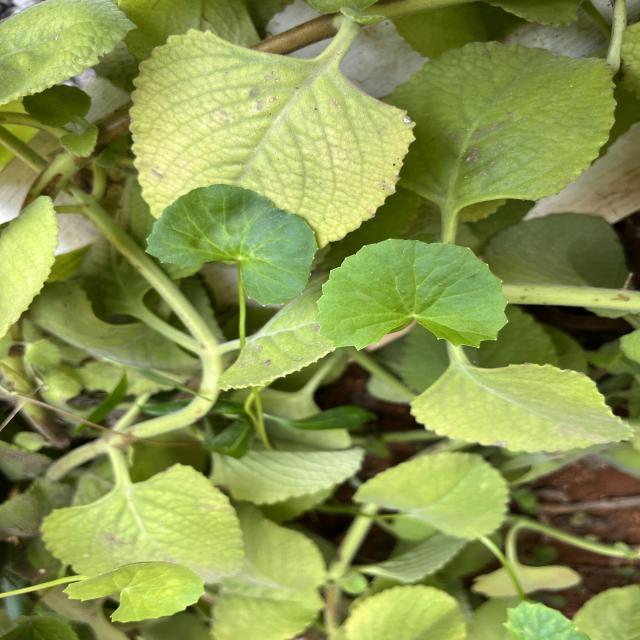Centella asiatica: (311, 235, 512, 352), (142, 182, 322, 310), (59, 558, 210, 626)
